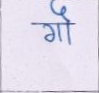ai_matra: (49, 1, 72, 22)
